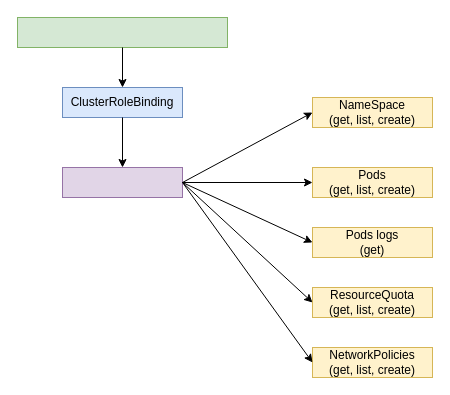
Some shapes in this 450 by 395 pixel diagram are drawn without their labels. The shapes that lost their labels are listed below. From the top down, each one's box as (x1, y1, x2, y2) in pixels, then its label:
(16, 16, 228, 48): Service Account (Golem ControlPlane)
(62, 166, 182, 198): ClusterRole
